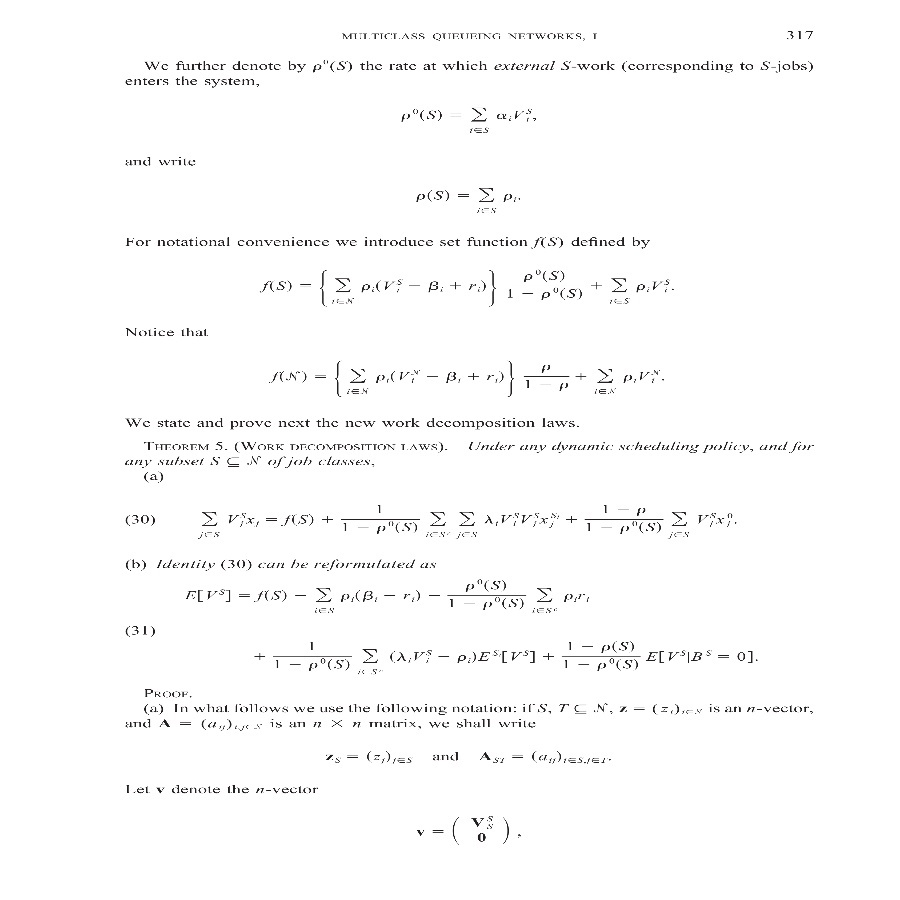eq: (194, 500, 739, 541), (250, 638, 755, 677), (251, 266, 684, 309), (266, 357, 666, 402), (184, 577, 589, 617), (409, 180, 536, 222), (389, 99, 546, 131), (408, 812, 514, 849), (478, 747, 615, 768), (311, 748, 414, 766)
